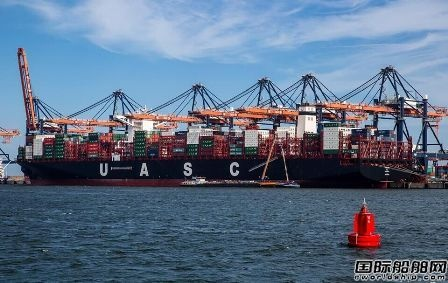Cargoship: (14, 64, 447, 187)
